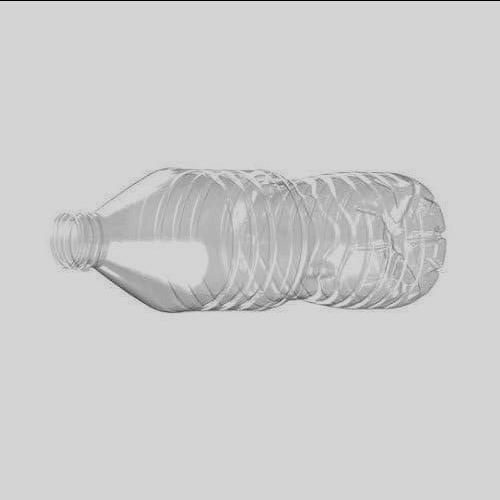bottle: (41, 164, 450, 313)
